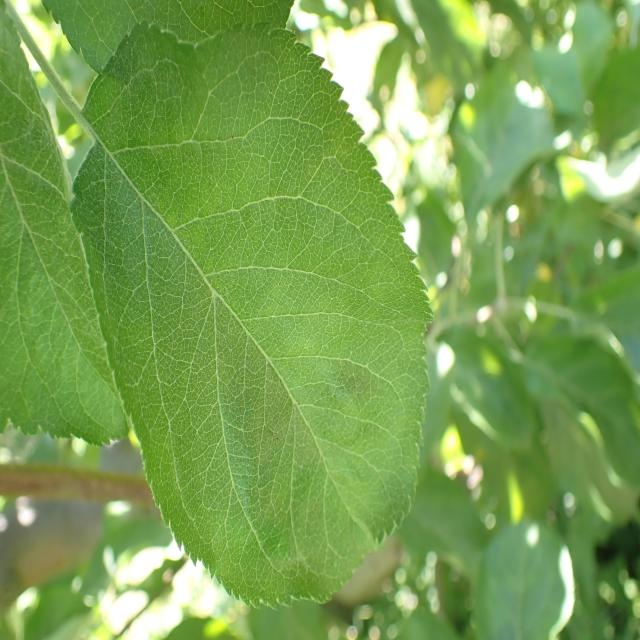healthy: (69, 15, 435, 611), (0, 1, 131, 448), (38, 0, 297, 74)
